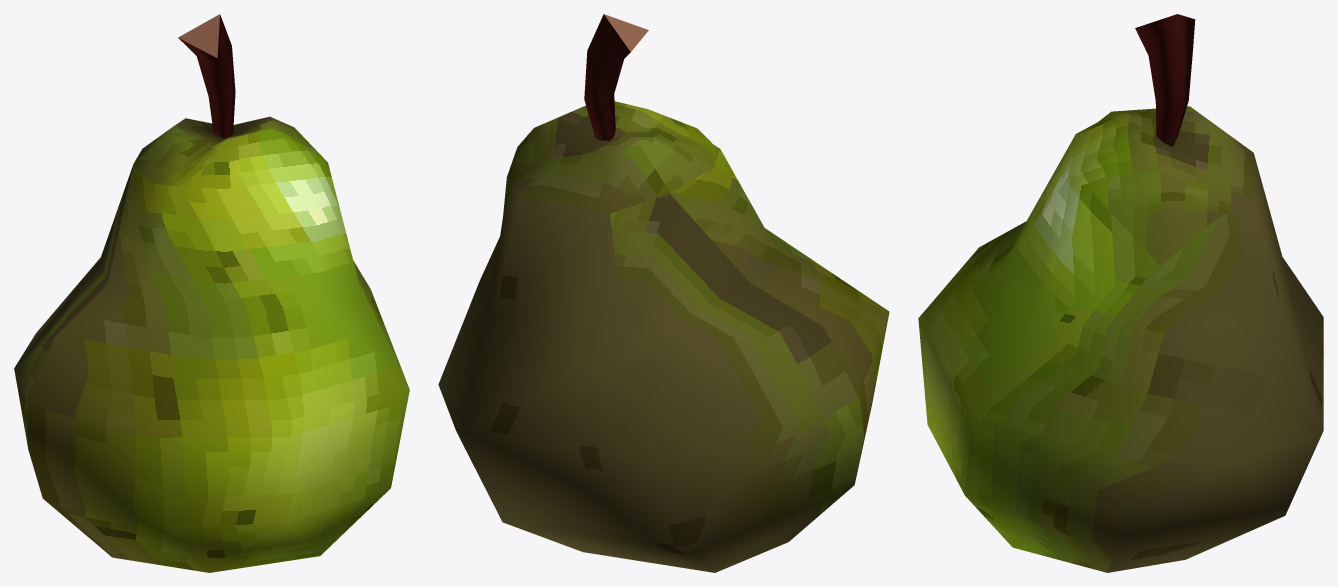
Rendered from fg_pear.dae.
3 renders of one model, left to right at view 1: azimuth 30°, elevation 25°; view 2: azimuth 150°, elevation 25°; view 3: azimuth 270°, elevation 25°, orthographic. The views are drawn at different scales.
Parts seen in each view (by area): view 1: fg_pear; view 2: fg_pear; view 3: fg_pear.
Part boxes in pixels (<box>): fg_pear: <box>14,14,409,572</box>; fg_pear: <box>438,14,889,572</box>; fg_pear: <box>918,14,1323,572</box>.
Bounding box in the file's own units: 13.27 × 18.08 × 12.06.
